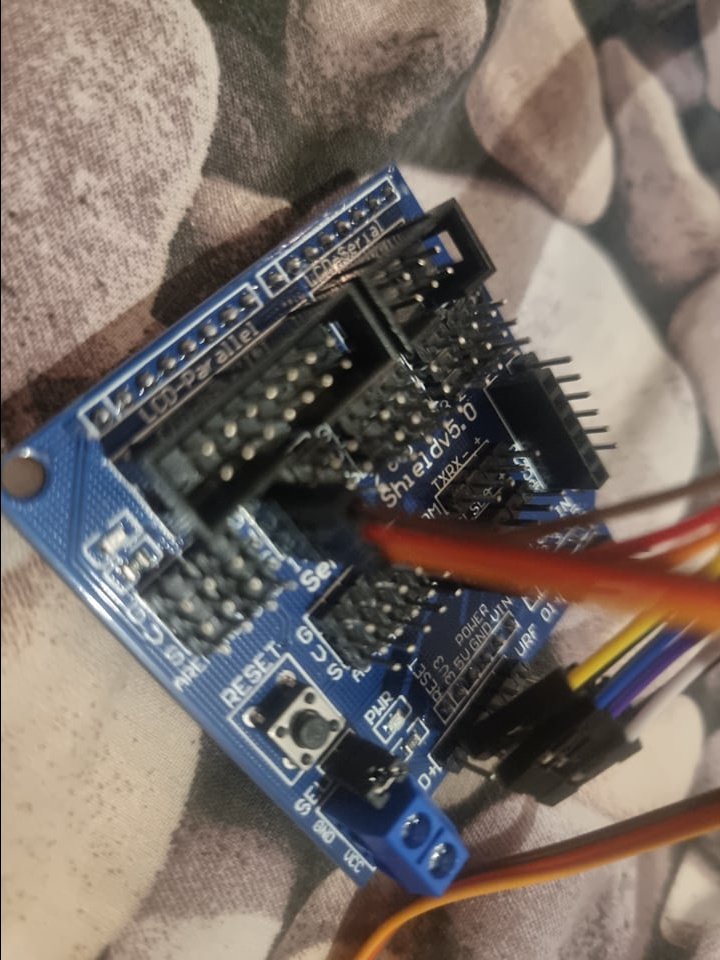5V EXPANSION: (4, 164, 614, 893)
